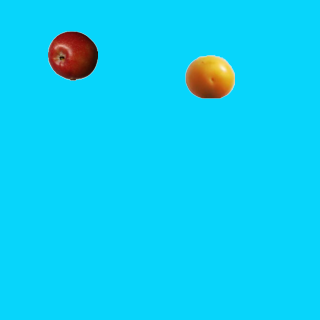Apple Braeburn: (47, 30, 97, 80)
Cherry Wax Yellow: (184, 51, 234, 101)
